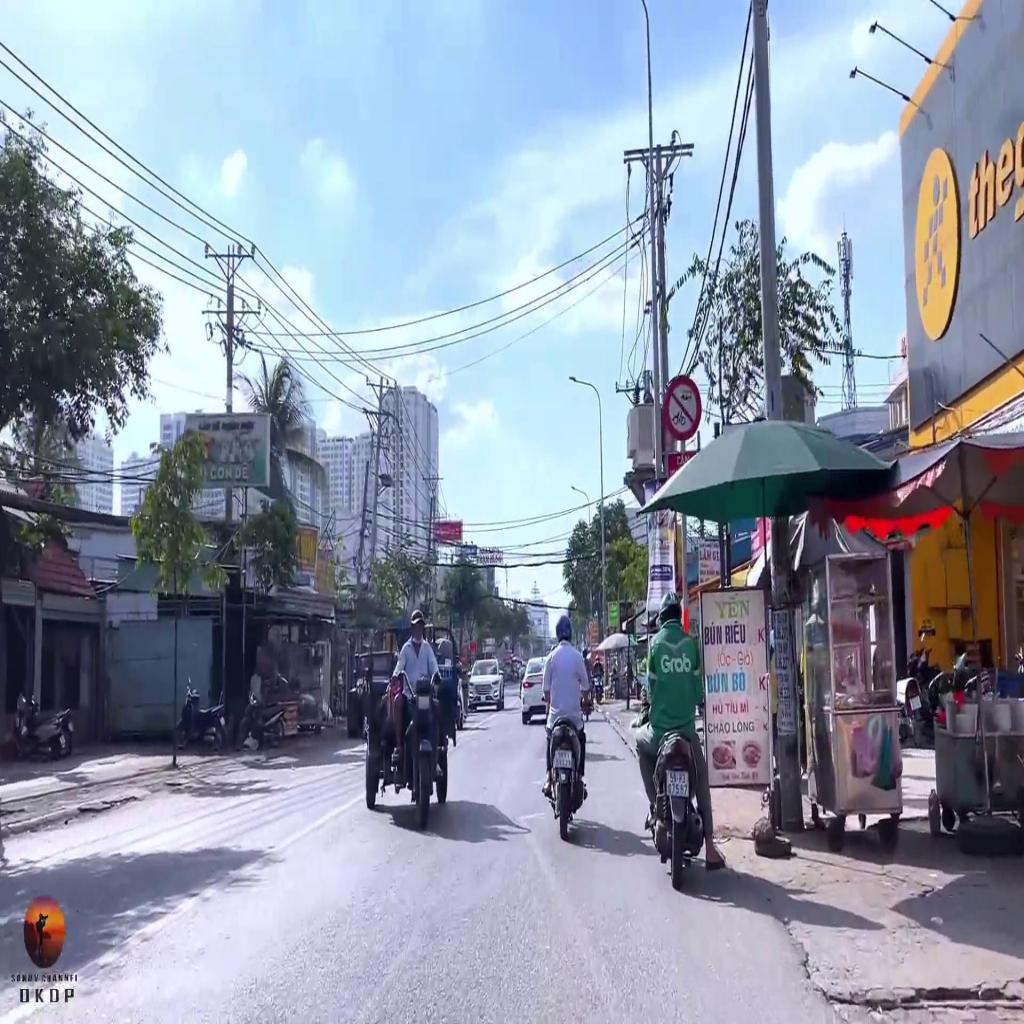cam_cac_loai_xe_3_banh: (659, 372, 705, 442)
